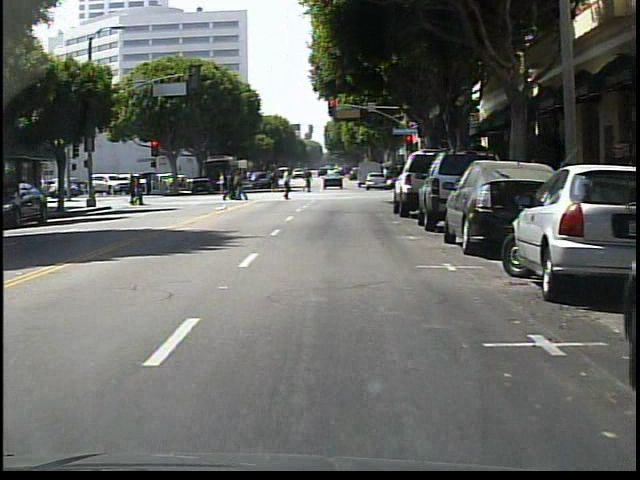person: (274, 166, 296, 204), (298, 167, 317, 196)
